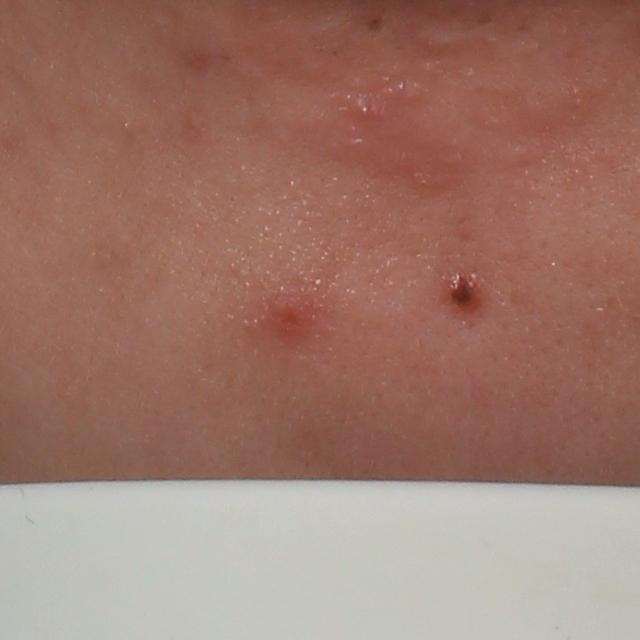hypertrophic_scar: (404, 21, 497, 61)
nevus: (447, 274, 479, 306)
papule: (264, 283, 312, 341), (348, 91, 376, 119)
